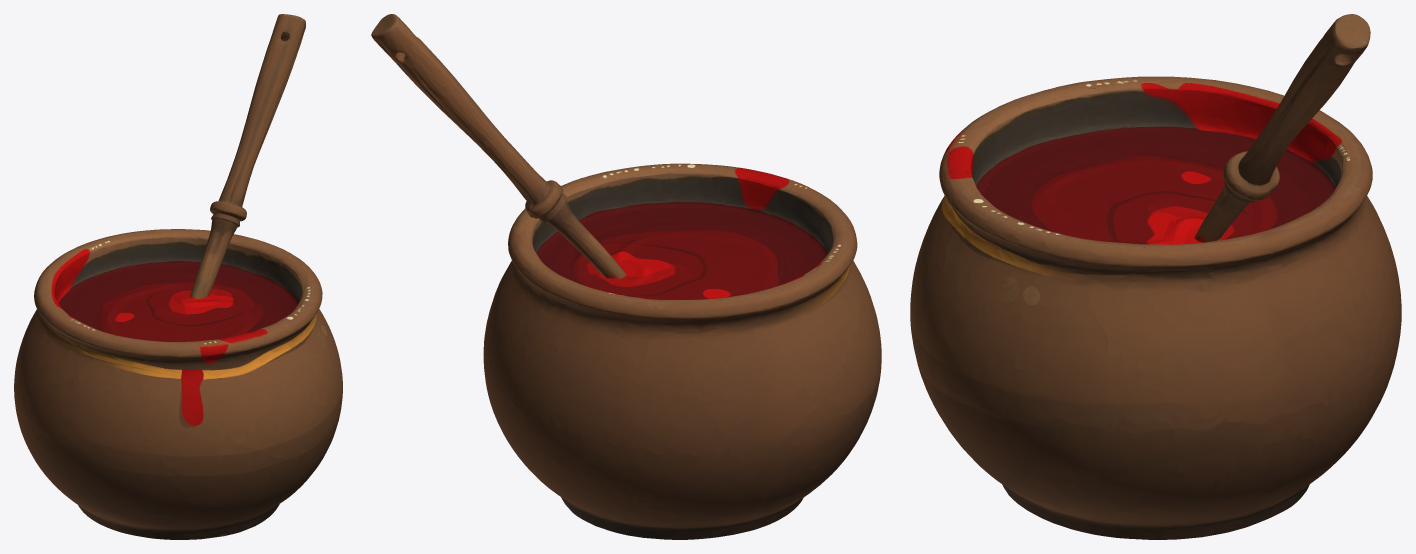
The model's file is PROP_DYE_POT_001.glb.
The picture shows the model from 3 angles, left to right: view 1: azimuth 30°, elevation 25°; view 2: azimuth 150°, elevation 25°; view 3: azimuth 270°, elevation 25°; orthographic projection. The views are drawn at different scales.
Bounding box in the file's own units: 1.68 × 1.9 × 1.45.
Materials: 1 (1 with a texture image).
